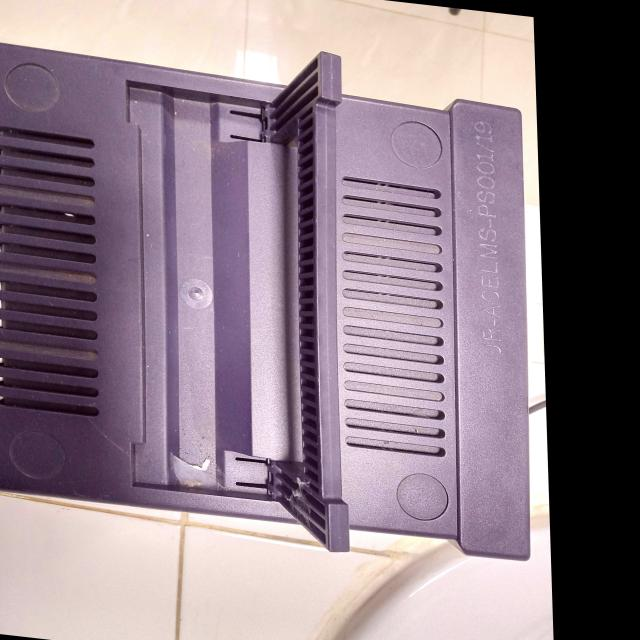Teslameter PS: (0, 0, 542, 571)
